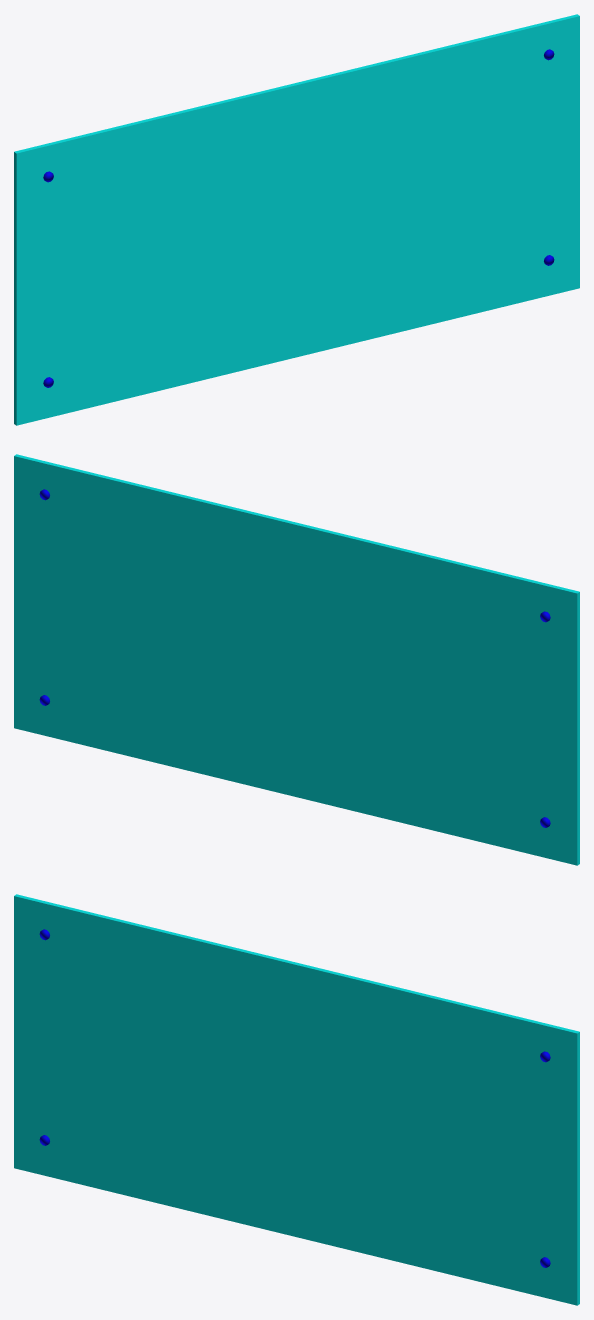
The model's file is cuadro_02_low.fbx.
3 views of the same model, one above another, from view 1: azimuth 30°, elevation 25°; view 2: azimuth 150°, elevation 25°; view 3: azimuth 330°, elevation 25° (orthographic).
Visible parts, largest first — view 1: cuadro_base; view 2: cuadro_base; view 3: cuadro_base.
Boxes of the visible parts, box(x1,y1,x2,y2) form: cuadro_base: box(14, 14, 579, 425); cuadro_base: box(14, 454, 579, 865); cuadro_base: box(14, 894, 579, 1305).
Bounding box in the file's own units: 130 × 60 × 2.
